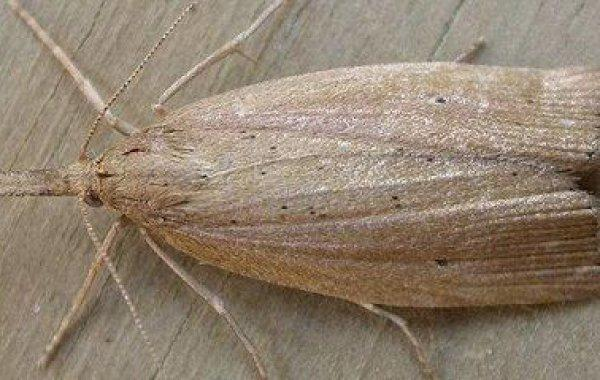Crambidae: (2, 5, 600, 372)
